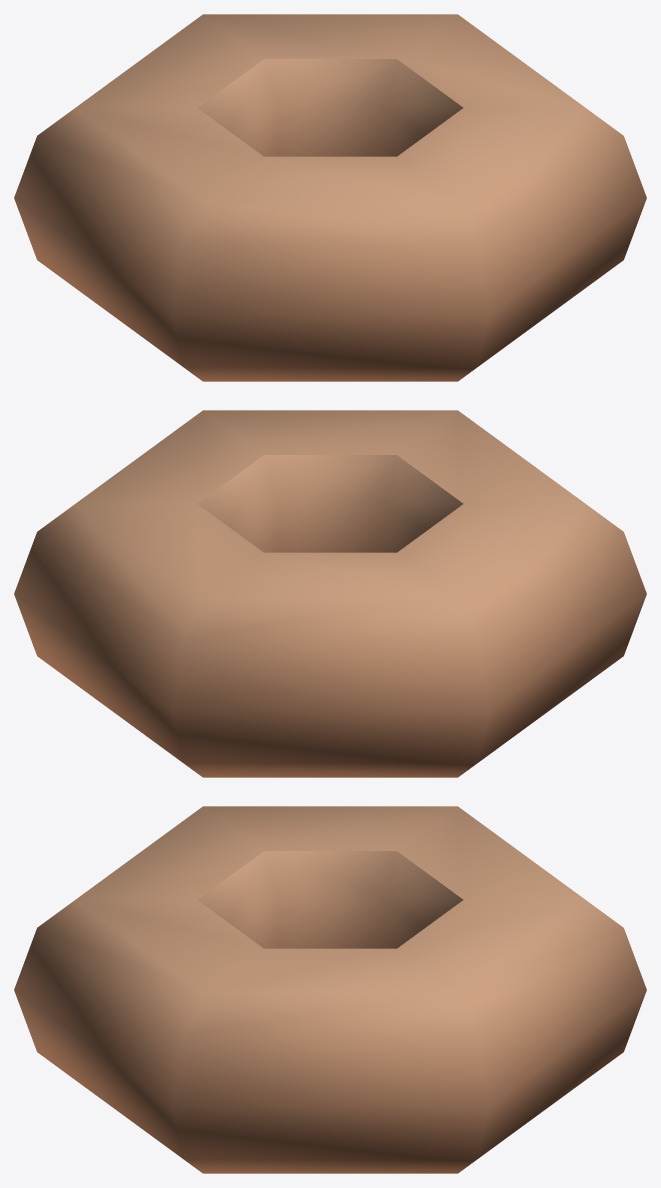
Rendered from donut.glb.
The picture shows the model from 3 angles, top to bottom: view 1: azimuth 30°, elevation 25°; view 2: azimuth 150°, elevation 25°; view 3: azimuth 270°, elevation 25°; orthographic projection.
Visible parts, largest first — view 1: donut; view 2: donut; view 3: donut.
Part boxes in pixels (x1,y1,x2,y2): donut: (14,14,646,381); donut: (14,410,646,777); donut: (14,806,646,1173).
Bounding box in the file's own units: 0.2451 × 0.0889 × 0.283.
